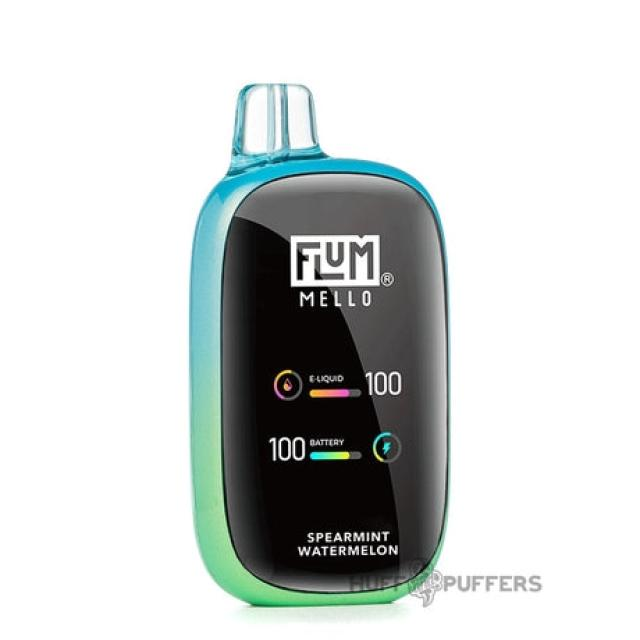Hazard: (186, 80, 451, 606)
